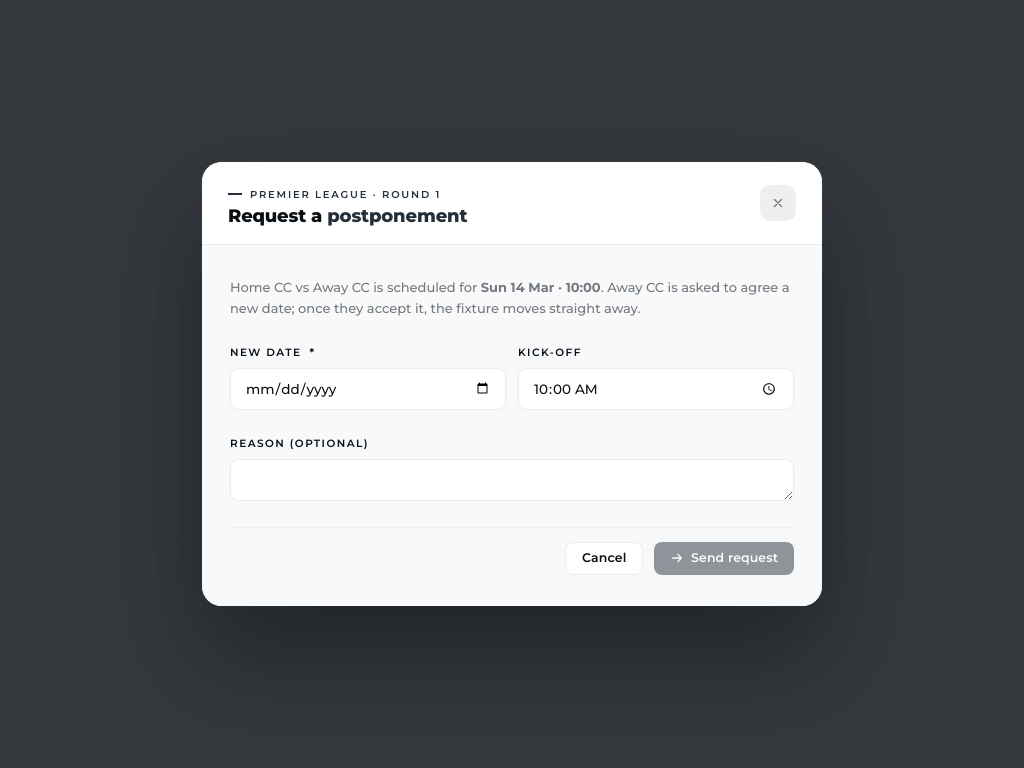
Test: RequestPostponementModal › shows the busy hints for a clashing date
In the date field named "New date": [368, 389] box [230, 368, 506, 410], type "2027-03-21"
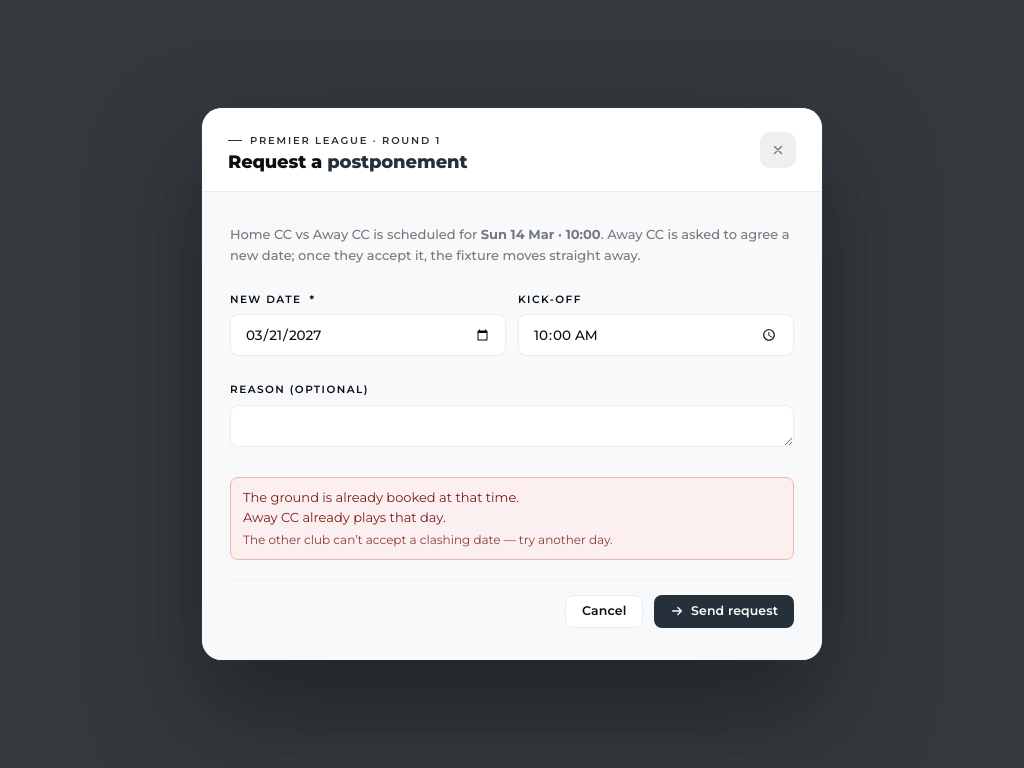
Expected: the text "The ground is already booked at that time." is shown, [243, 489, 519, 505]
Expected: the text "Away CC already plays that day." is shown, [243, 508, 446, 524]
